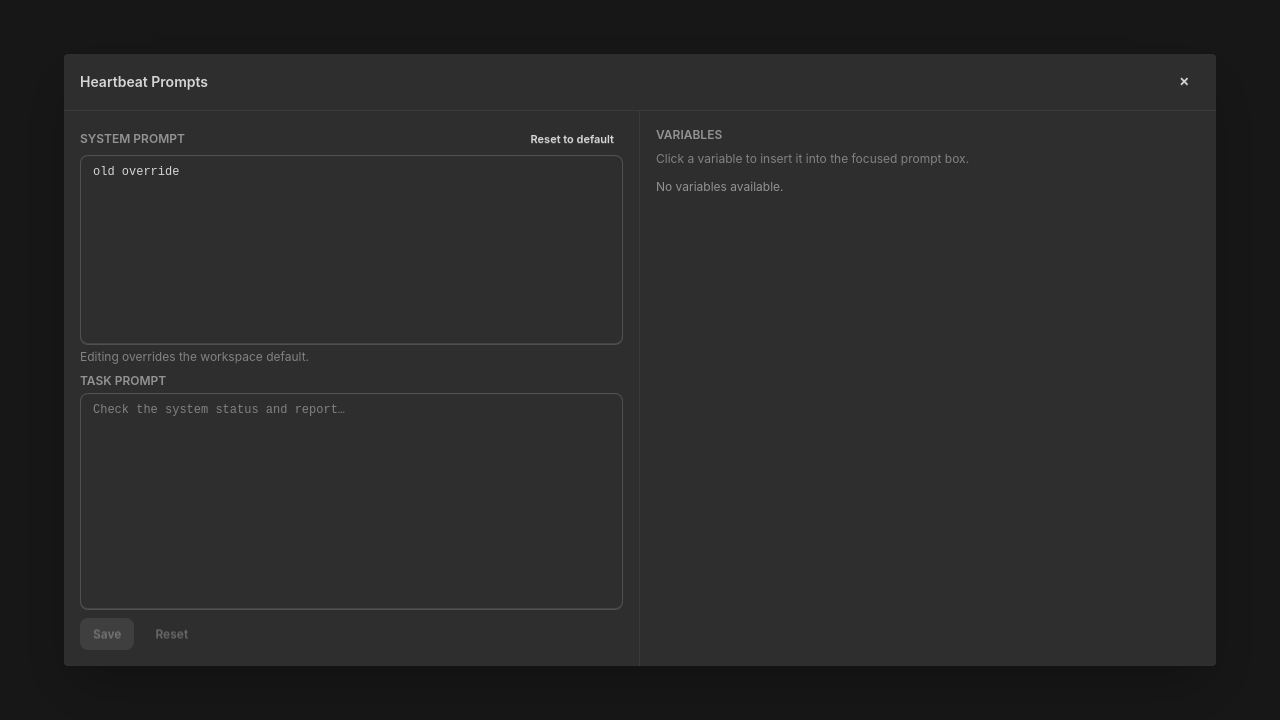
Test: PromptEditor save flow › persisting text that matches the default sends '' (inherit) and clears unsaved state
The image size is (1280, 720).
Expected: the text box named "Heartbeat system prompt" holds "old override", [80,155,623,344]
Note: Reset to default → text matches the default → saving inherits ("").
Step 1. Click the button "Reset to default" → {"x": 572, "y": 139}, box [522,127,623,151]
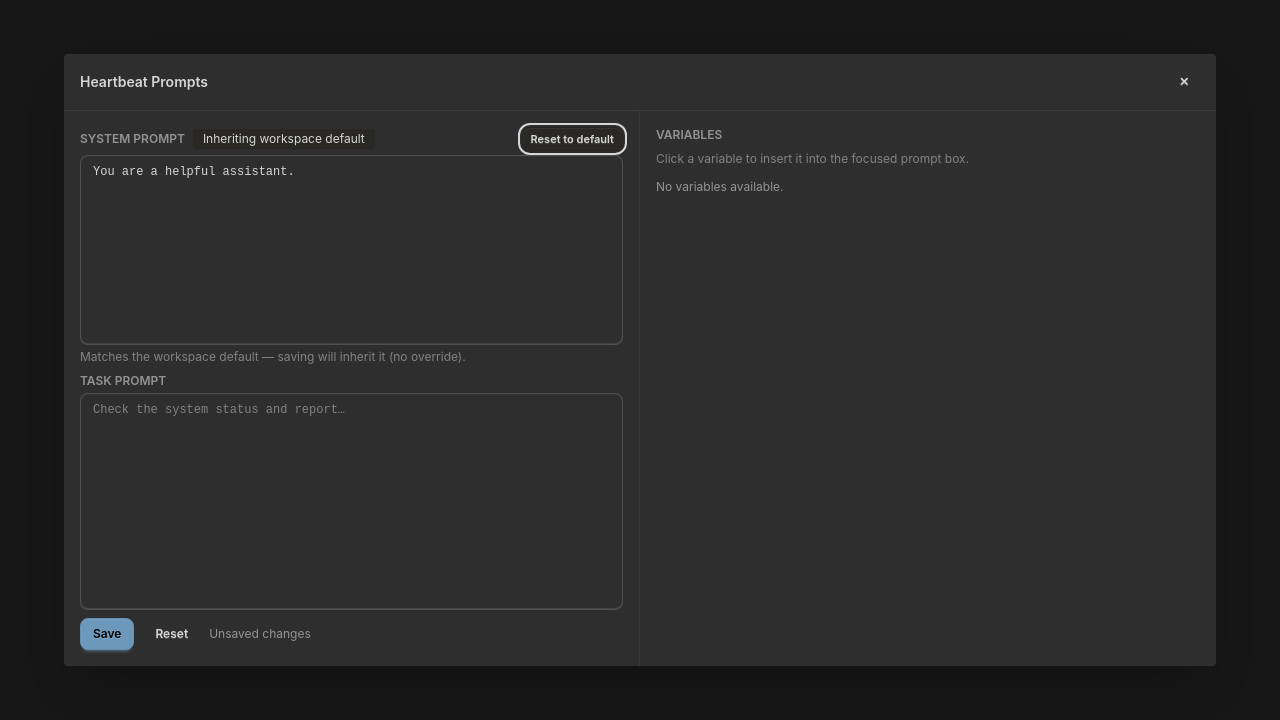
Expected: the text box named "Heartbeat system prompt" holds "You are a helpful assistant.", [80,155,623,344]
Expected: the button "Save" is enabled
Step 2. Click the button "Save" → {"x": 107, "y": 634}, box [80,618,134,650]
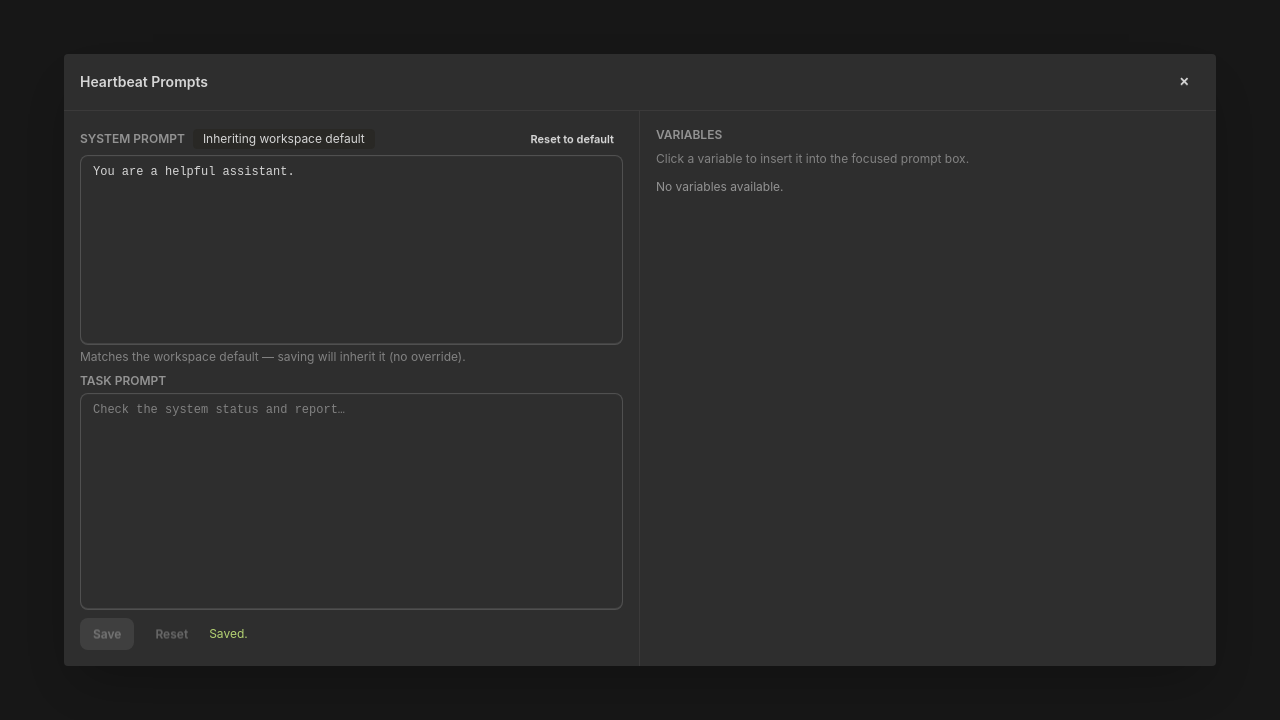
Expected: the text "Saved." is shown, [209,626,248,642]
Expected: the button "Save" is disabled, [80,618,134,650]
